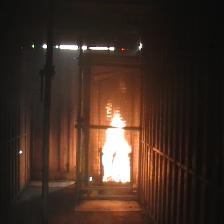fire: (102, 104, 131, 183)
